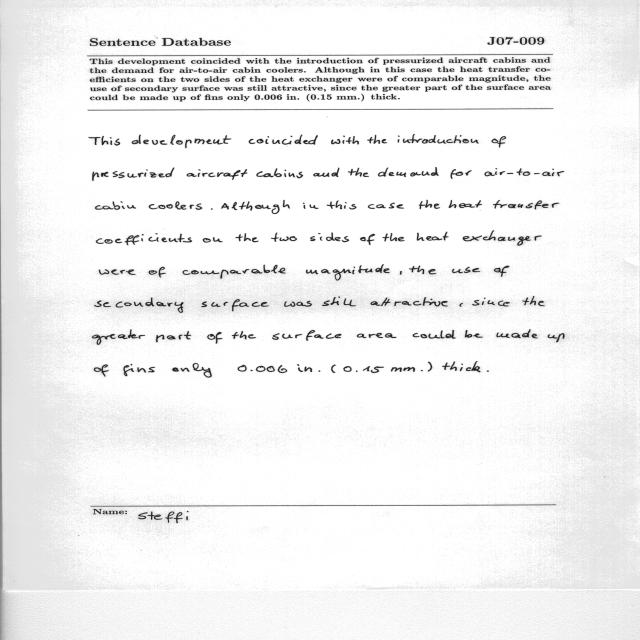word: (183, 265, 286, 279), (95, 297, 184, 313), (306, 265, 390, 281), (132, 135, 231, 148), (463, 230, 542, 246), (96, 233, 192, 245), (93, 167, 175, 181), (221, 200, 290, 214), (397, 134, 479, 144), (201, 299, 269, 311), (93, 330, 145, 345), (272, 330, 342, 341), (370, 298, 448, 307), (249, 135, 318, 145), (187, 169, 247, 180), (484, 168, 564, 176), (378, 167, 439, 177), (493, 200, 560, 209), (172, 363, 212, 378), (149, 201, 202, 210), (256, 168, 303, 178), (442, 361, 480, 372), (238, 365, 287, 373), (310, 233, 349, 243), (413, 330, 456, 339), (156, 332, 191, 343), (123, 364, 155, 376), (497, 330, 538, 339), (96, 201, 136, 210), (472, 298, 510, 307), (322, 297, 356, 307), (89, 136, 120, 146), (343, 366, 384, 373), (417, 232, 448, 241), (327, 201, 357, 210), (449, 200, 482, 208), (331, 136, 359, 145), (368, 202, 404, 209), (409, 266, 436, 275), (313, 168, 339, 177), (271, 233, 297, 242), (522, 296, 545, 306), (99, 269, 136, 275), (451, 169, 472, 179), (236, 234, 259, 243), (357, 333, 397, 338), (232, 331, 256, 339), (348, 168, 369, 177), (419, 200, 440, 209), (149, 267, 166, 278), (298, 364, 321, 372), (367, 135, 387, 144), (208, 332, 223, 344), (94, 365, 109, 377), (383, 233, 405, 241), (492, 136, 506, 148), (452, 267, 480, 273), (284, 301, 312, 307), (360, 234, 375, 245), (494, 266, 509, 277), (391, 367, 423, 372), (548, 333, 565, 342), (465, 330, 483, 338), (203, 237, 223, 243), (303, 203, 319, 209), (331, 364, 336, 373), (428, 362, 432, 372), (459, 303, 463, 307), (400, 271, 402, 275), (487, 370, 489, 372), (211, 209, 213, 210)
